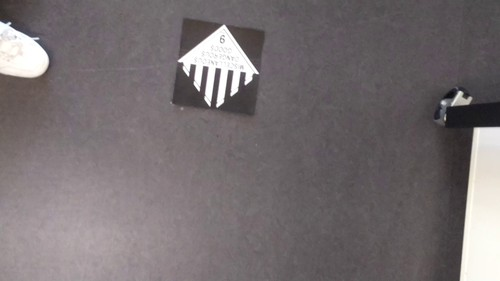misgoods: (175, 18, 264, 108)
